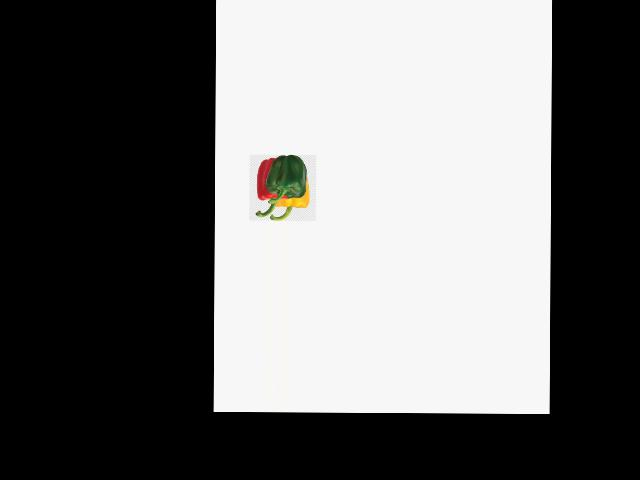bell_pepper: (248, 156, 287, 218)
